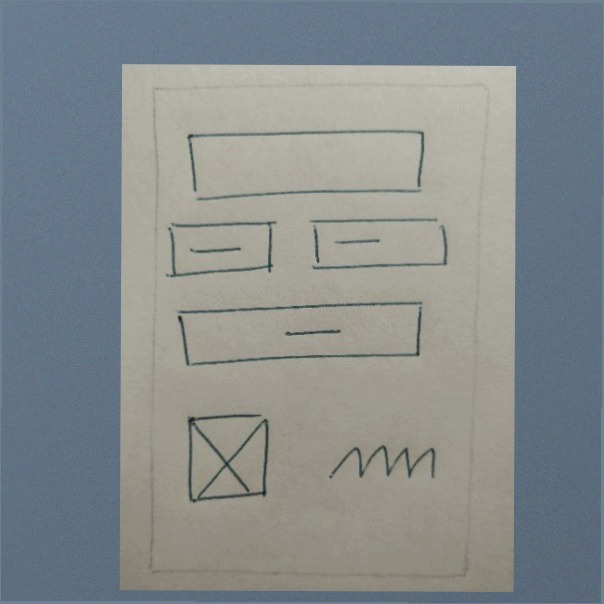button: (170, 296, 438, 371), (304, 213, 454, 276), (162, 215, 279, 285)
image: (176, 408, 274, 507)
text: (322, 439, 441, 487)
text_input: (175, 123, 447, 201)
